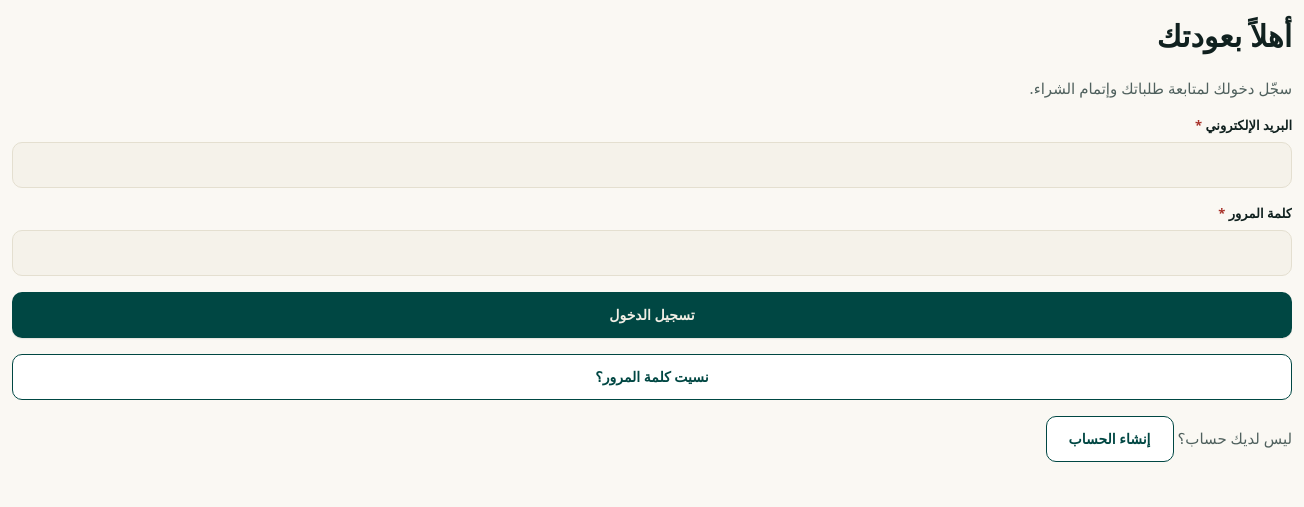
Scenario: LoginForm › rejects a malformed email
Type "not-an-email" into the field labelled "البريد الإلكتروني *" at (652, 165), box top-left (12, 142), bottom-right (1292, 188)
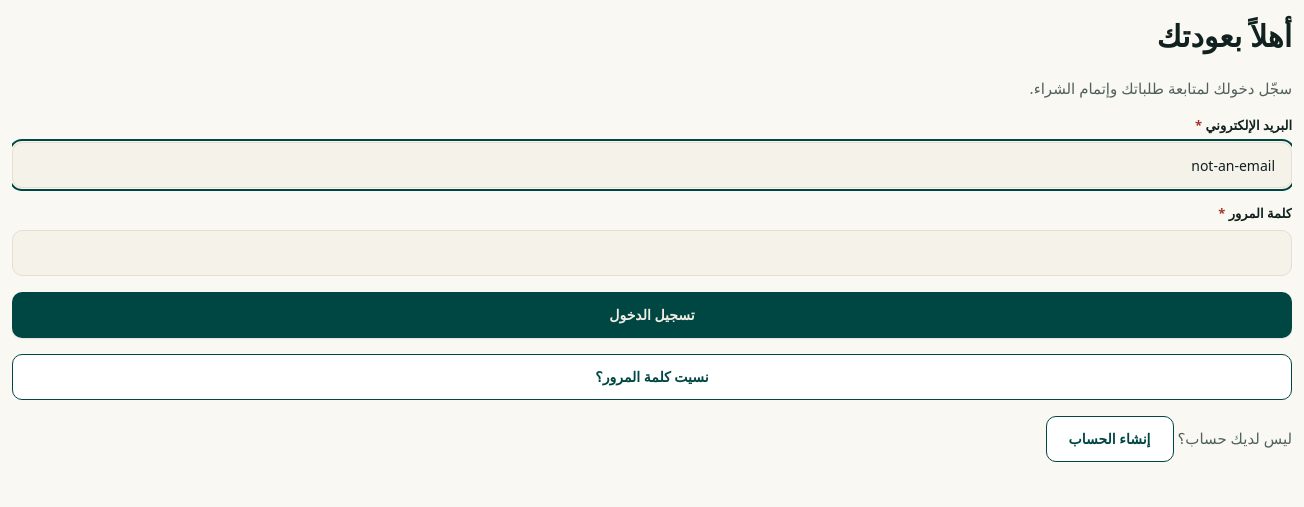
Type "x" into the password field labelled "كلمة المرور *" at (652, 253), box top-left (12, 230), bottom-right (1292, 276)
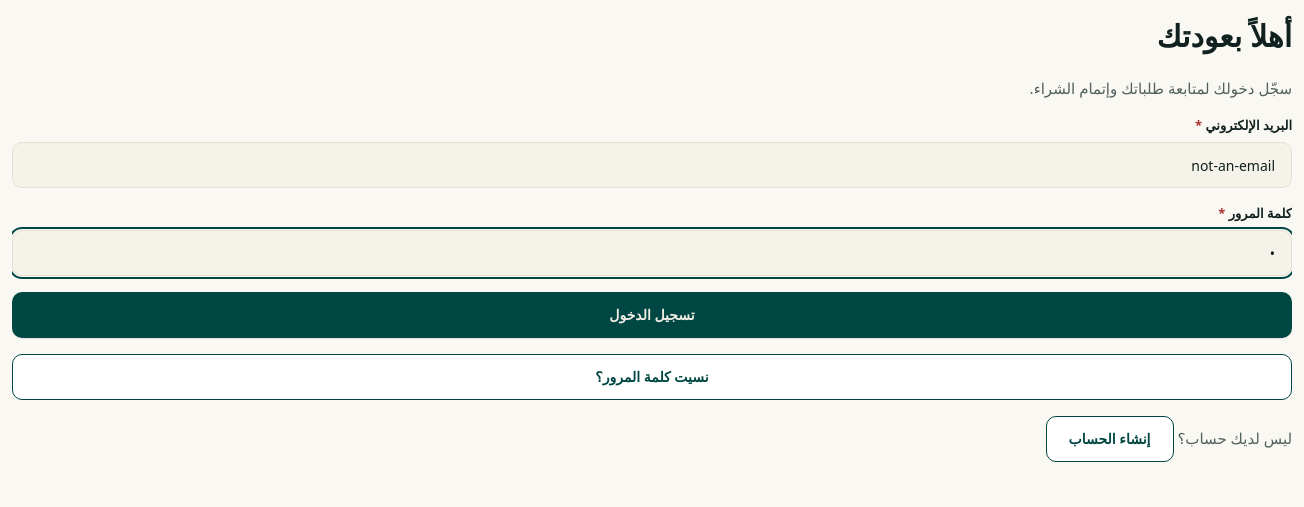
Click the button "تسجيل الدخول" at (652, 315), box top-left (12, 292), bottom-right (1292, 338)
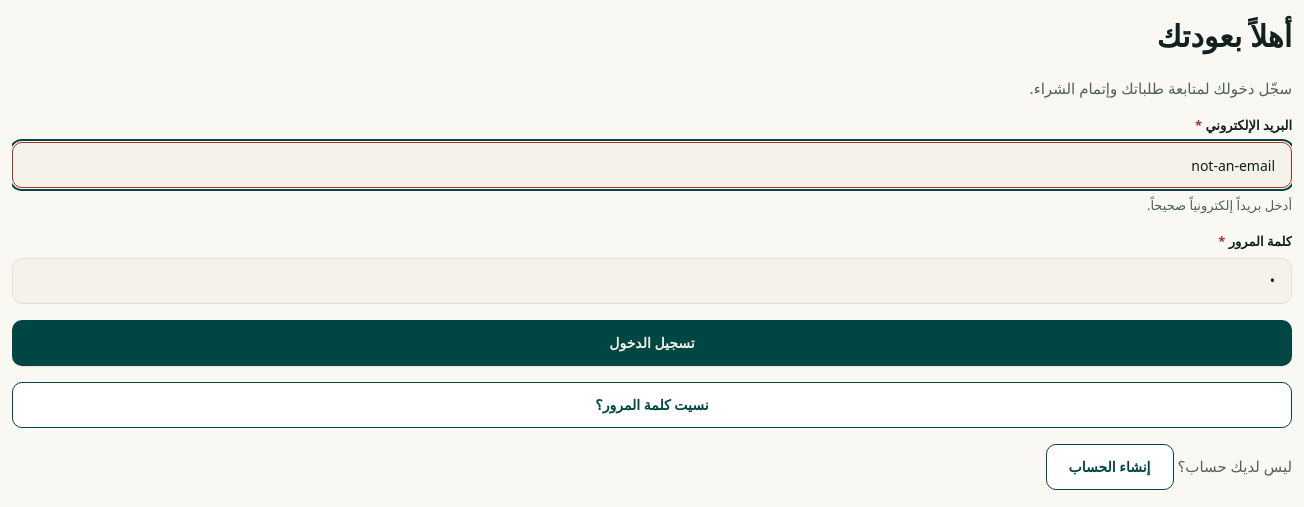
Expected: the text "أدخل بريداً إلكترونياً صحيحاً." is shown, top-left (1147, 196), bottom-right (1292, 214)
